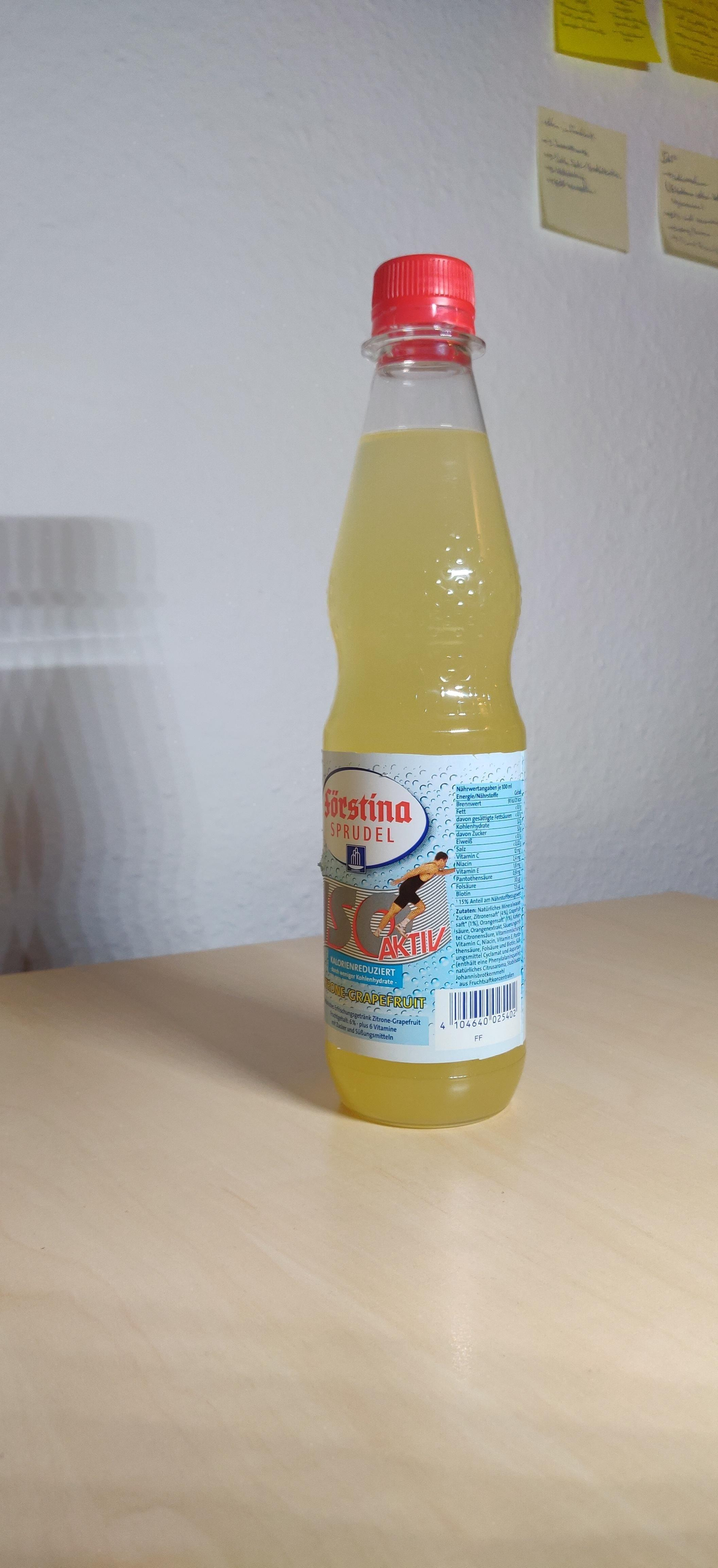bottle-plastic: (312, 244, 537, 1131)
